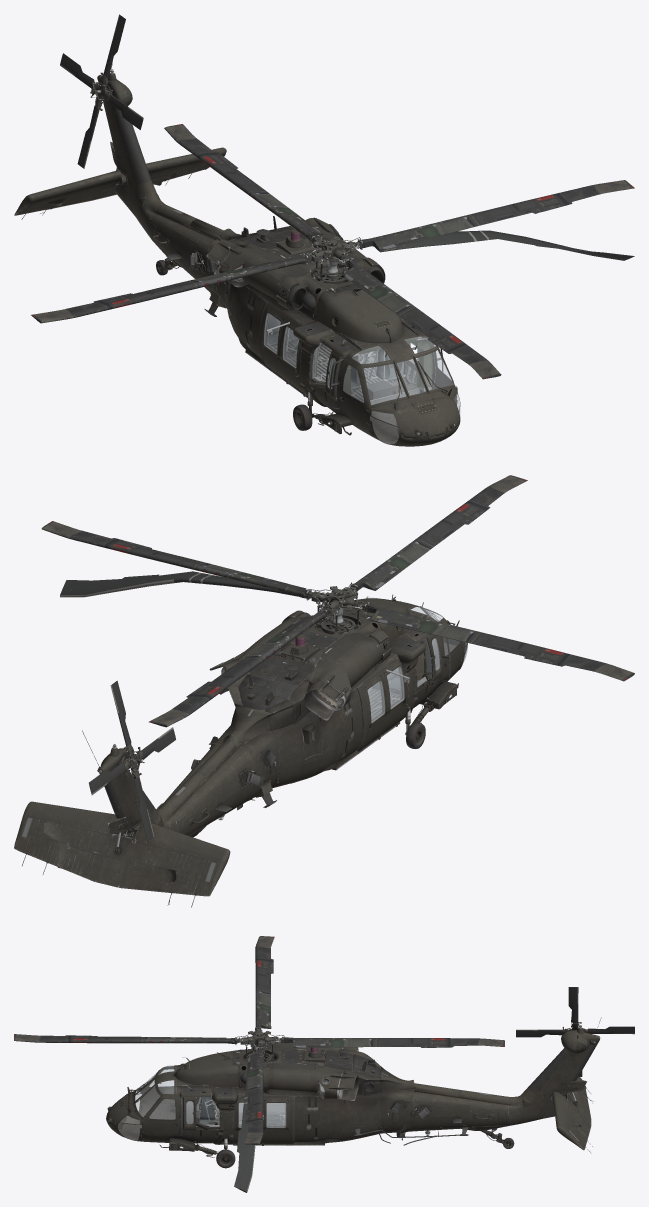
The model's file is VEH_UH60.glb.
The picture shows the model from 3 angles, top to bottom: view 1: azimuth 30°, elevation 25°; view 2: azimuth 150°, elevation 25°; view 3: azimuth 270°, elevation 25°; orthographic projection. The views are drawn at different scales.
Visible parts, largest first — view 1: ob_veh_helicopter_uh60_base_s0, ob_veh_helicopter_uh60_base_s1, ob_veh_helicopter_uh60_base_s3, ob_veh_helicopter_uh60_base_s9, ob_veh_helicopter_uh60_base_s2, ob_veh_helicopter_uh60_base_s6; view 2: ob_veh_helicopter_uh60_base_s0, ob_veh_helicopter_uh60_base_s1, ob_veh_helicopter_uh60_base_s3, ob_veh_helicopter_uh60_base_s9, ob_veh_helicopter_uh60_base_s2, ob_veh_helicopter_uh60_base_s6; view 3: ob_veh_helicopter_uh60_base_s0, ob_veh_helicopter_uh60_base_s1, ob_veh_helicopter_uh60_base_s3, ob_veh_helicopter_uh60_base_s9, ob_veh_helicopter_uh60_base_s2, ob_veh_helicopter_uh60_base_s6.
Boxes of the visible parts, x1=… form: ob_veh_helicopter_uh60_base_s0: x1=14, y1=14, x2=634, y2=435; ob_veh_helicopter_uh60_base_s1: x1=148, y1=214, x2=460, y2=446; ob_veh_helicopter_uh60_base_s3: x1=31, y1=124, x2=634, y2=379; ob_veh_helicopter_uh60_base_s9: x1=264, y1=313, x2=460, y2=443; ob_veh_helicopter_uh60_base_s2: x1=266, y1=314, x2=432, y2=404; ob_veh_helicopter_uh60_base_s6: x1=267, y1=314, x2=298, y2=364; ob_veh_helicopter_uh60_base_s0: x1=14, y1=563, x2=466, y2=907; ob_veh_helicopter_uh60_base_s1: x1=156, y1=594, x2=467, y2=837; ob_veh_helicopter_uh60_base_s3: x1=41, y1=475, x2=634, y2=727; ob_veh_helicopter_uh60_base_s9: x1=99, y1=597, x2=467, y2=772; ob_veh_helicopter_uh60_base_s2: x1=367, y1=638, x2=431, y2=720; ob_veh_helicopter_uh60_base_s6: x1=368, y1=668, x2=401, y2=719; ob_veh_helicopter_uh60_base_s0: x1=118, y1=987, x2=634, y2=1192; ob_veh_helicopter_uh60_base_s1: x1=106, y1=1057, x2=514, y2=1168; ob_veh_helicopter_uh60_base_s3: x1=14, y1=936, x2=504, y2=1144; ob_veh_helicopter_uh60_base_s9: x1=108, y1=1037, x2=600, y2=1140; ob_veh_helicopter_uh60_base_s2: x1=196, y1=1086, x2=285, y2=1126; ob_veh_helicopter_uh60_base_s6: x1=239, y1=1103, x2=285, y2=1125.
Size of the model in its own units: 15.14 by 5.56 by 19.15.
9 materials, 6 textured.
